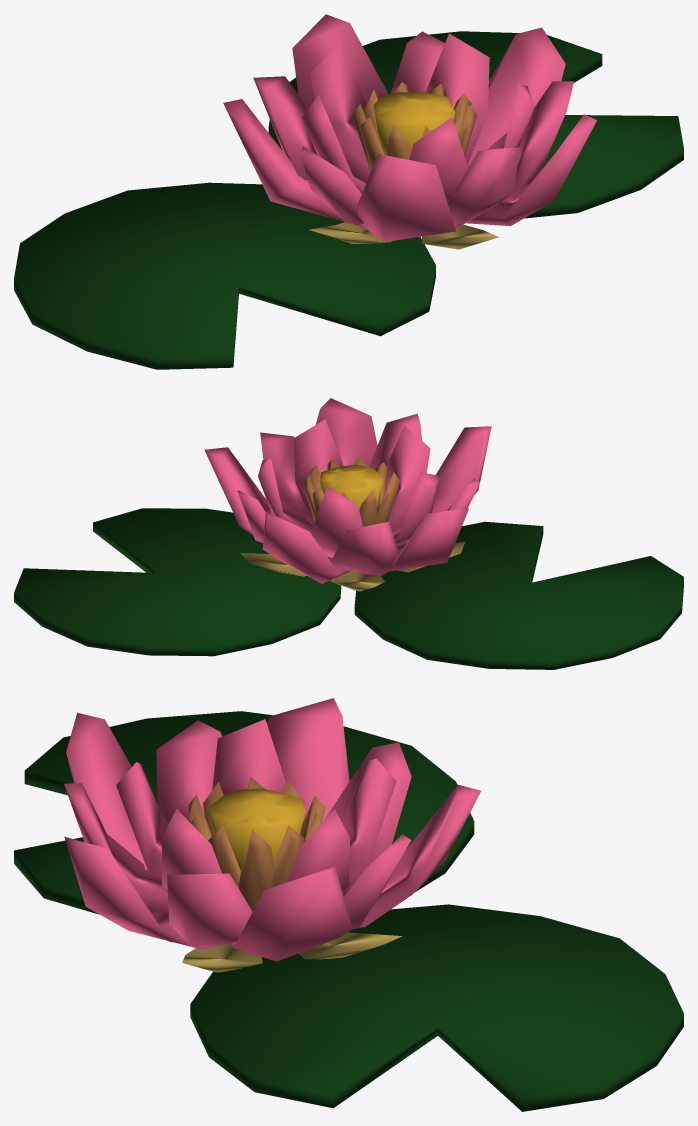
The model's file is LotusMeioAberto.fbx.
3 renders of one model, top to bottom at view 1: azimuth 30°, elevation 25°; view 2: azimuth 150°, elevation 25°; view 3: azimuth 270°, elevation 25°, orthographic. The views are drawn at different scales.
Visible parts, largest first — view 1: LotusMeioAberta_LOD0; view 2: LotusMeioAberta_LOD0; view 3: LotusMeioAberta_LOD0.
Part boxes in pixels (x1=…): LotusMeioAberta_LOD0: x1=14, y1=14, x2=683, y2=369; LotusMeioAberta_LOD0: x1=14, y1=398, x2=683, y2=669; LotusMeioAberta_LOD0: x1=14, y1=698, x2=683, y2=1111.
Size of what is drawn, in the model's own units: 132 by 27.37 by 96.21.
